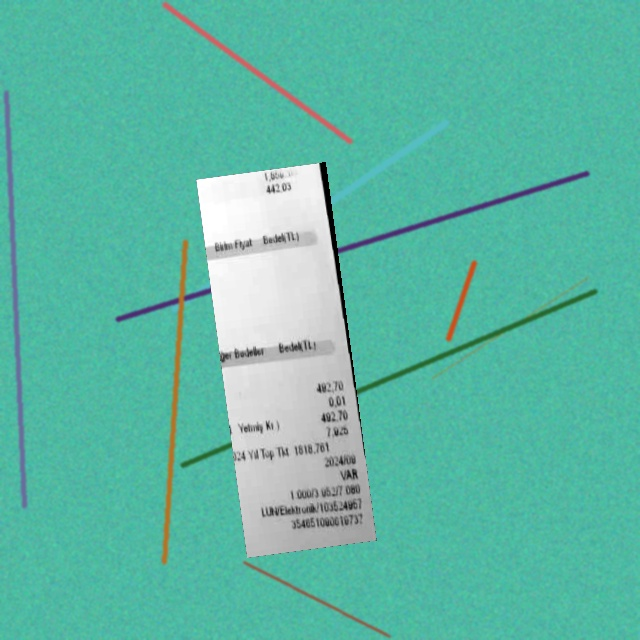electricity-bill: (195, 162, 377, 558)
